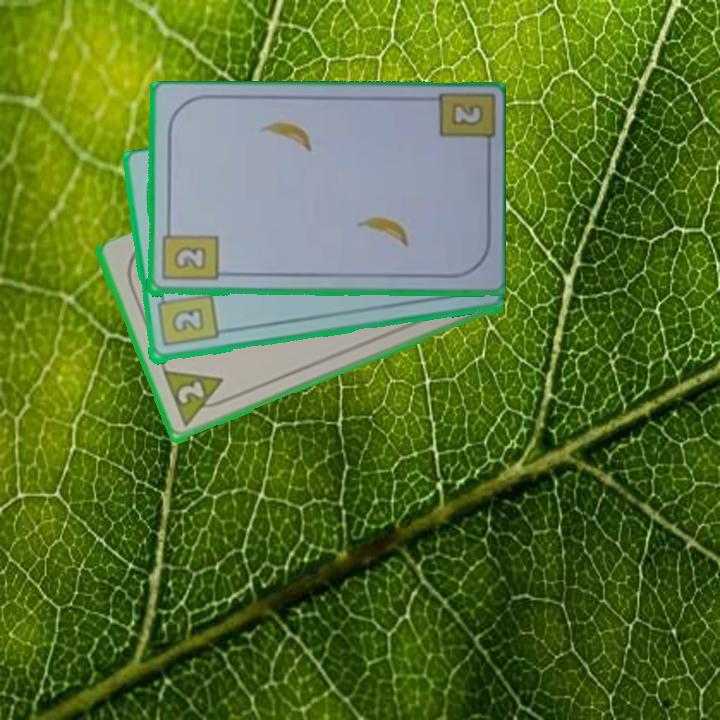2b: (153, 289, 220, 350), (158, 222, 220, 284), (447, 100, 487, 129)
2p: (159, 367, 233, 430)
